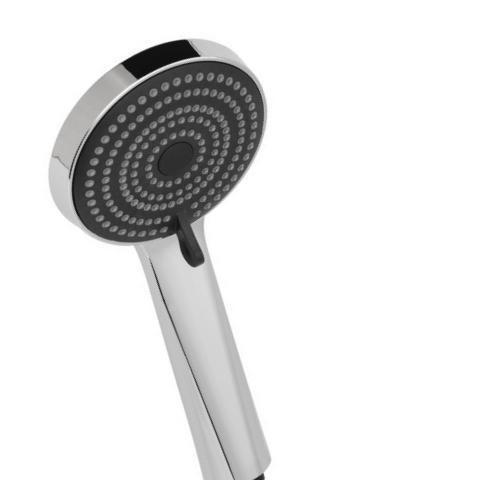Ducha: (41, 19, 295, 479)
